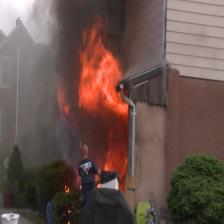fire: (55, 27, 141, 186)
